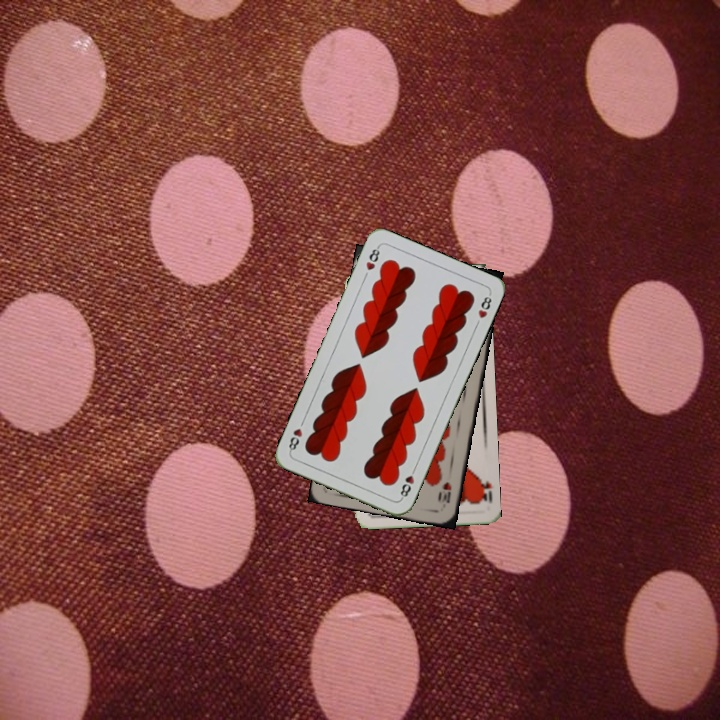H10: (435, 478, 454, 507)
H8: (396, 463, 419, 502), (362, 242, 382, 273)
HO: (475, 471, 495, 507)
